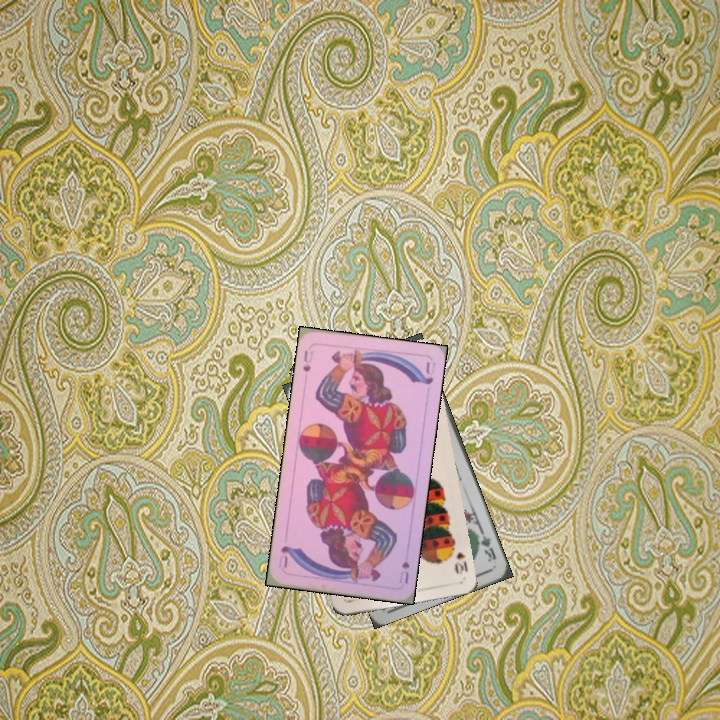GK: (471, 527, 499, 564)
S10: (447, 539, 470, 576)
SU: (395, 557, 412, 586), (299, 346, 315, 375)
